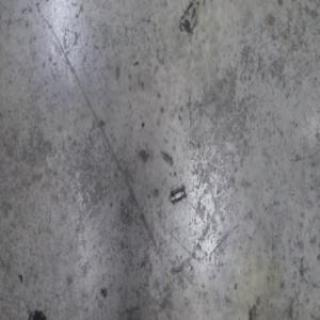Bolttrack_idkeyframe: (168, 183, 186, 206)
